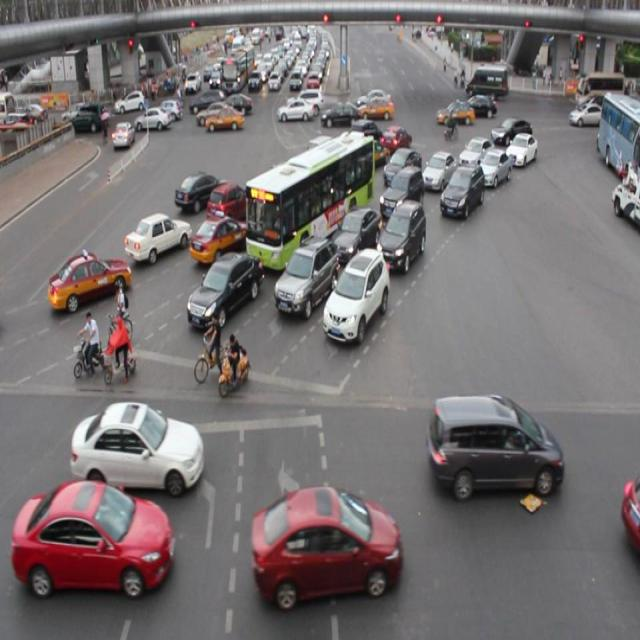car: (11, 478, 174, 592), (250, 484, 399, 596), (70, 398, 206, 490), (324, 248, 389, 342), (184, 252, 258, 325), (47, 252, 130, 310), (275, 236, 338, 312), (125, 212, 191, 262), (378, 200, 425, 270), (328, 206, 381, 263), (189, 213, 248, 261), (439, 162, 484, 220), (378, 164, 423, 221), (259, 157, 310, 199), (207, 180, 254, 225), (174, 170, 228, 208), (321, 148, 360, 189), (382, 148, 420, 190), (490, 115, 530, 154), (421, 149, 456, 190), (342, 117, 381, 153), (476, 146, 509, 188), (457, 135, 493, 172), (353, 137, 388, 171), (504, 130, 536, 167), (378, 125, 410, 156)
truck: (428, 395, 562, 494), (299, 138, 346, 182)
van: (244, 136, 374, 273)
